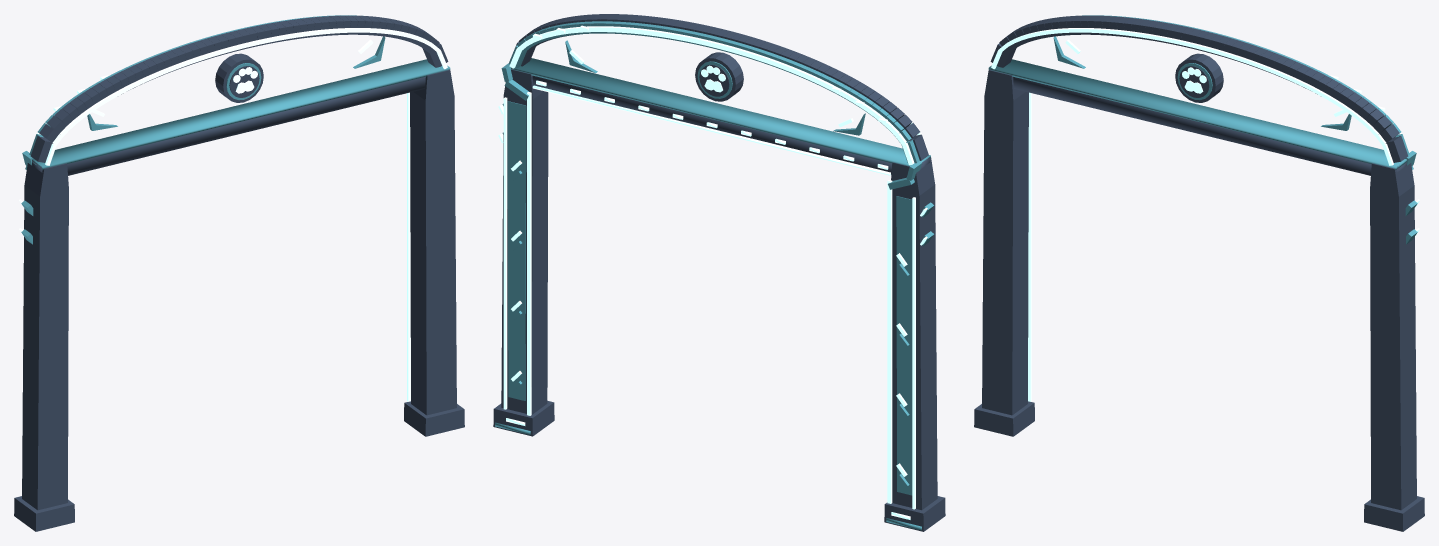
Rendered from nyanisyarud-slide-gate-landing.glb.
3 views of the same model, side by side, from view 1: azimuth 30°, elevation 25°; view 2: azimuth 150°, elevation 25°; view 3: azimuth 330°, elevation 25° (orthographic).
Visible parts, largest first — view 1: frame, accent, glow; view 2: frame, accent, glow; view 3: frame, accent, glow.
Boxes of the visible parts, left/top/right/bottom form: frame: left=14, top=15, right=464, bottom=531; accent: left=21, top=15, right=450, bottom=244; glow: left=19, top=14, right=447, bottom=401; frame: left=493, top=14, right=945, bottom=531; accent: left=495, top=21, right=934, bottom=530; glow: left=498, top=25, right=928, bottom=519; frame: left=974, top=15, right=1424, bottom=531; accent: left=988, top=15, right=1417, bottom=244; glow: left=991, top=14, right=1419, bottom=401.
Size of the model in its own units: 12.34 by 12.04 by 1.12.
